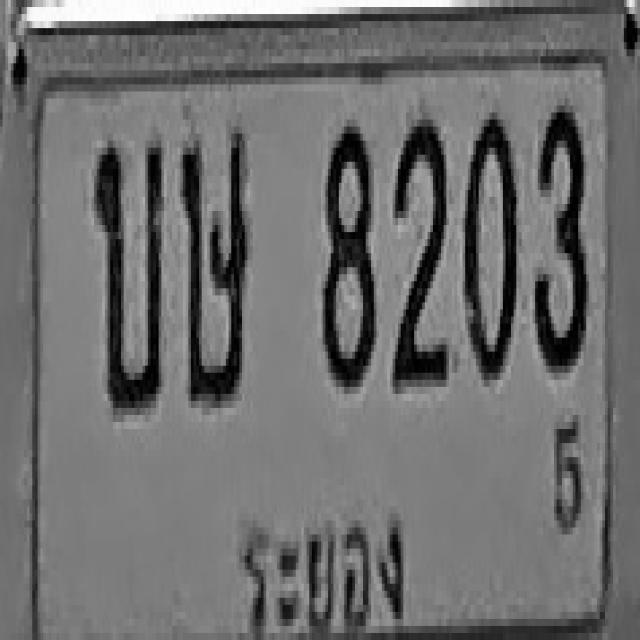0: (462, 105, 516, 380)
2: (391, 112, 448, 387)
3: (534, 98, 588, 366)
35BorBaiMai: (92, 130, 162, 412)
48SorRueSi: (180, 126, 248, 401)
8: (321, 116, 375, 383)
Rayong: (234, 492, 411, 640)
